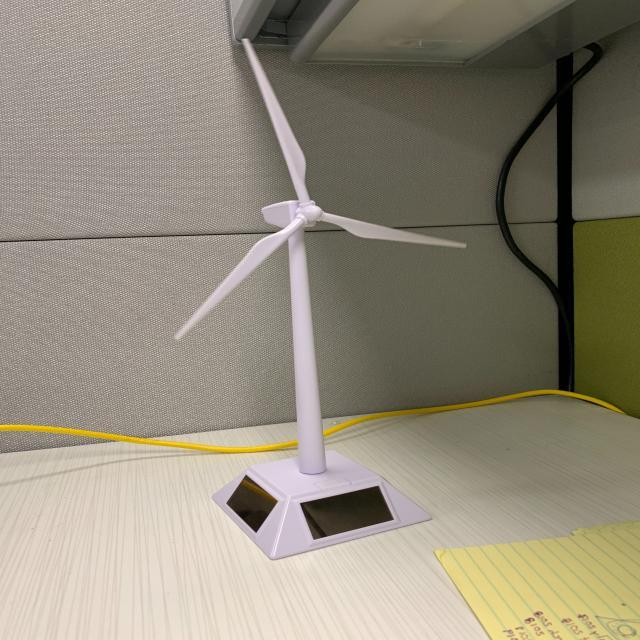solid-blade: (175, 225, 298, 339), (243, 39, 310, 202), (320, 212, 466, 247)
